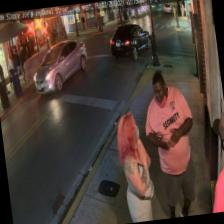person: (138, 69, 204, 219), (112, 110, 158, 222), (200, 110, 224, 211)
